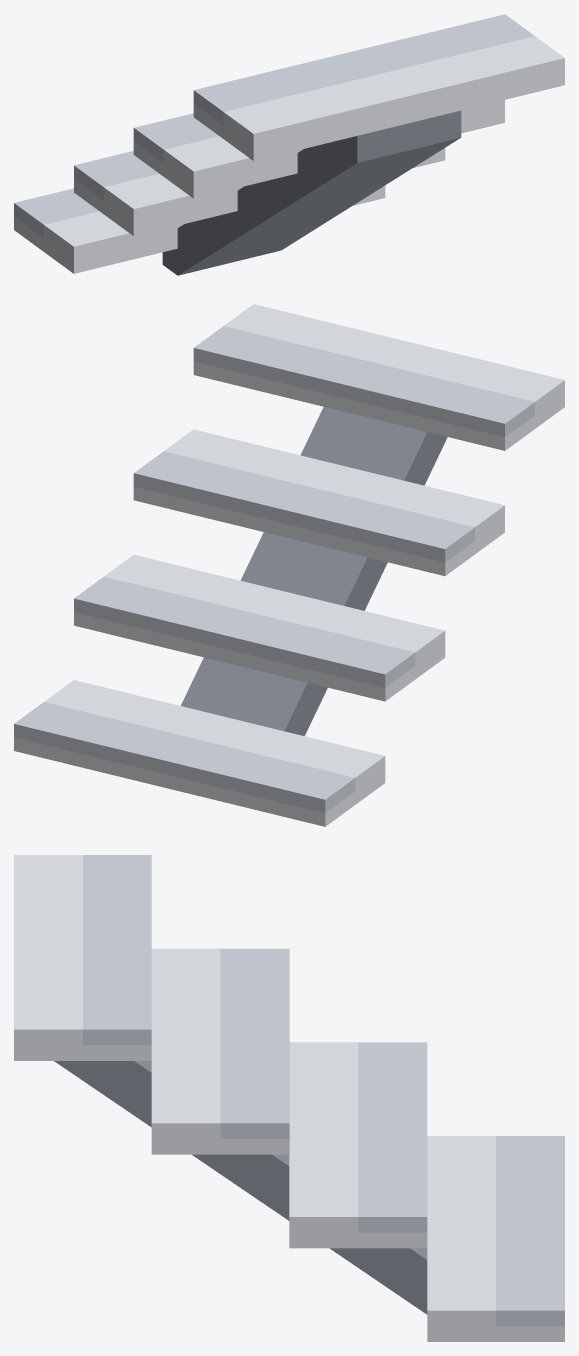
File: stairs_short.glb
3 renders of one model, top to bottom at view 1: azimuth 30°, elevation 25°; view 2: azimuth 150°, elevation 25°; view 3: azimuth 270°, elevation 25°, orthographic. The views are drawn at different scales.
Parts seen in each view (by area): view 1: stairs_short; view 2: stairs_short; view 3: stairs_short.
Boxes of the visible parts, <box> form: stairs_short: <box>14,14,564,275</box>; stairs_short: <box>14,304,564,826</box>; stairs_short: <box>14,855,564,1341</box>.
Size of the model in its own units: 0.3 by 0.275 by 0.4.
Materials: 1 (1 with a texture image).
